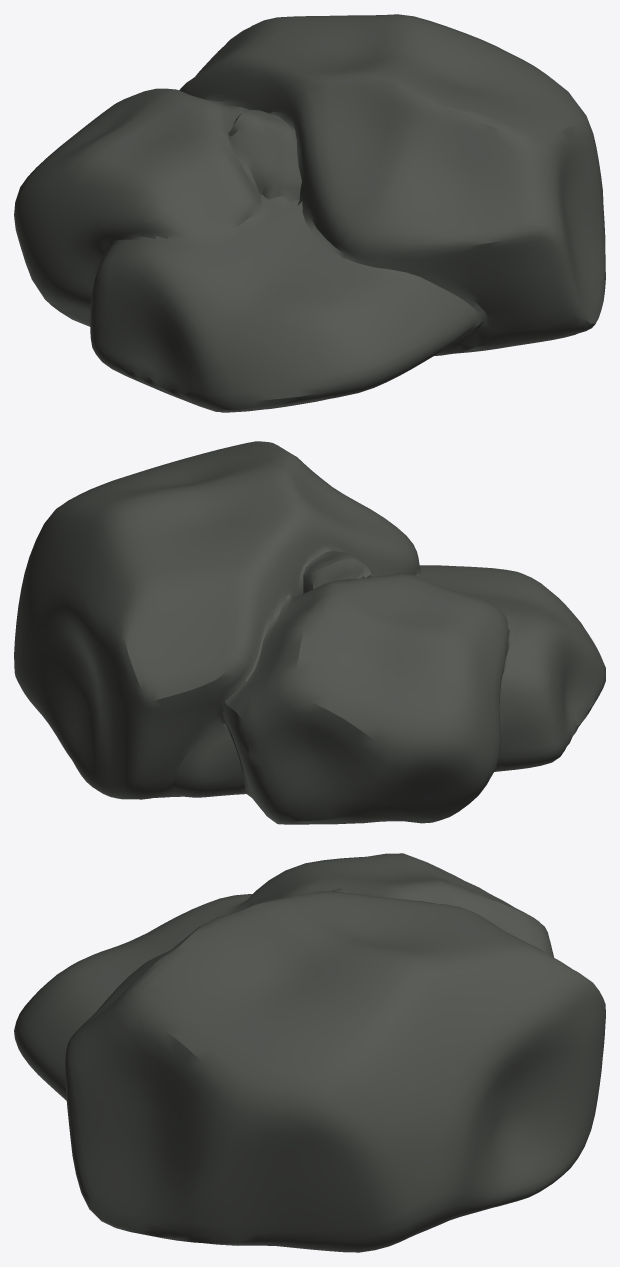
The model's file is rocks-2.glb.
The picture shows the model from 3 angles, top to bottom: view 1: azimuth 30°, elevation 25°; view 2: azimuth 150°, elevation 25°; view 3: azimuth 270°, elevation 25°; orthographic projection. The views are drawn at different scales.
Parts seen in each view (by area): view 1: Environment_Cliff1; view 2: Environment_Cliff1; view 3: Environment_Cliff1.
Part boxes in pixels (x1,y1,x2,y2): Environment_Cliff1: [14, 14, 605, 412]; Environment_Cliff1: [14, 441, 605, 824]; Environment_Cliff1: [14, 853, 605, 1252].
Bounding box in the file's own units: 5.63 × 2.96 × 5.41.
1 material, 1 textured.
